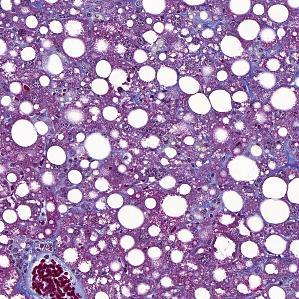fibrosis: (15, 225, 66, 258)
